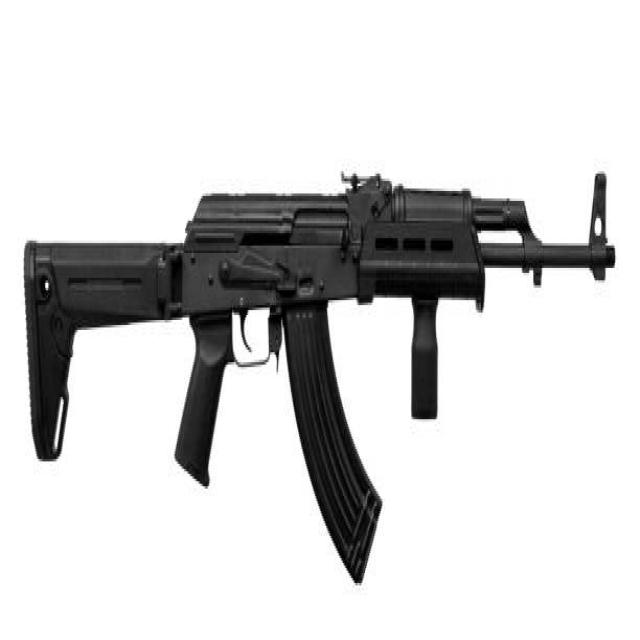rifle: (21, 145, 618, 608)
